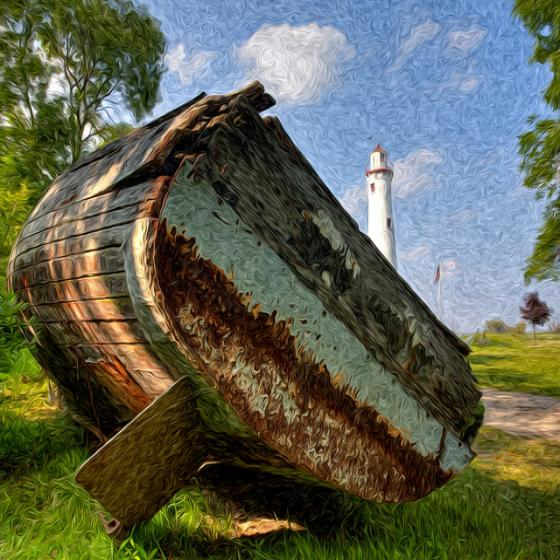boat: (3, 80, 482, 532)
